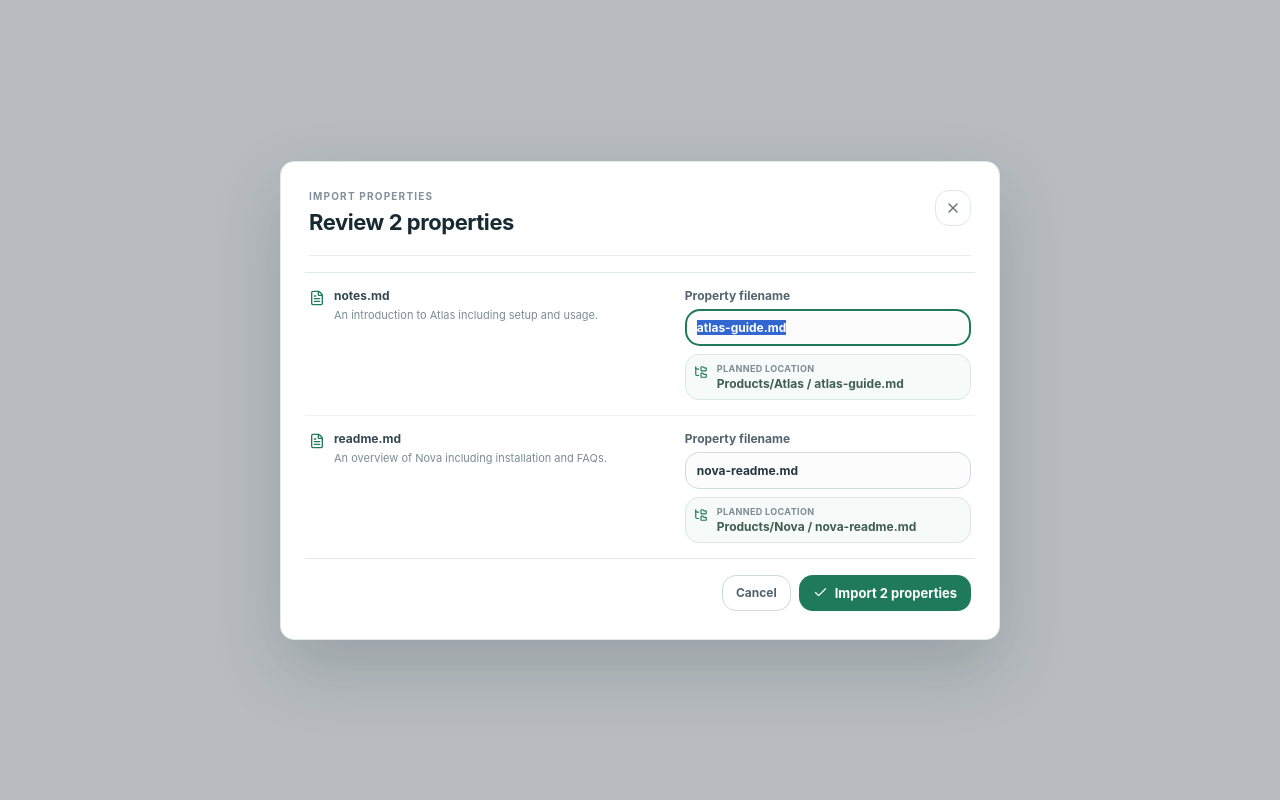
ImportPropertyDialog › blocks confirmation when a filename is empty or duplicated
Clear the field named "Property filename for notes.md" at (828, 327), box [685, 308, 971, 346]
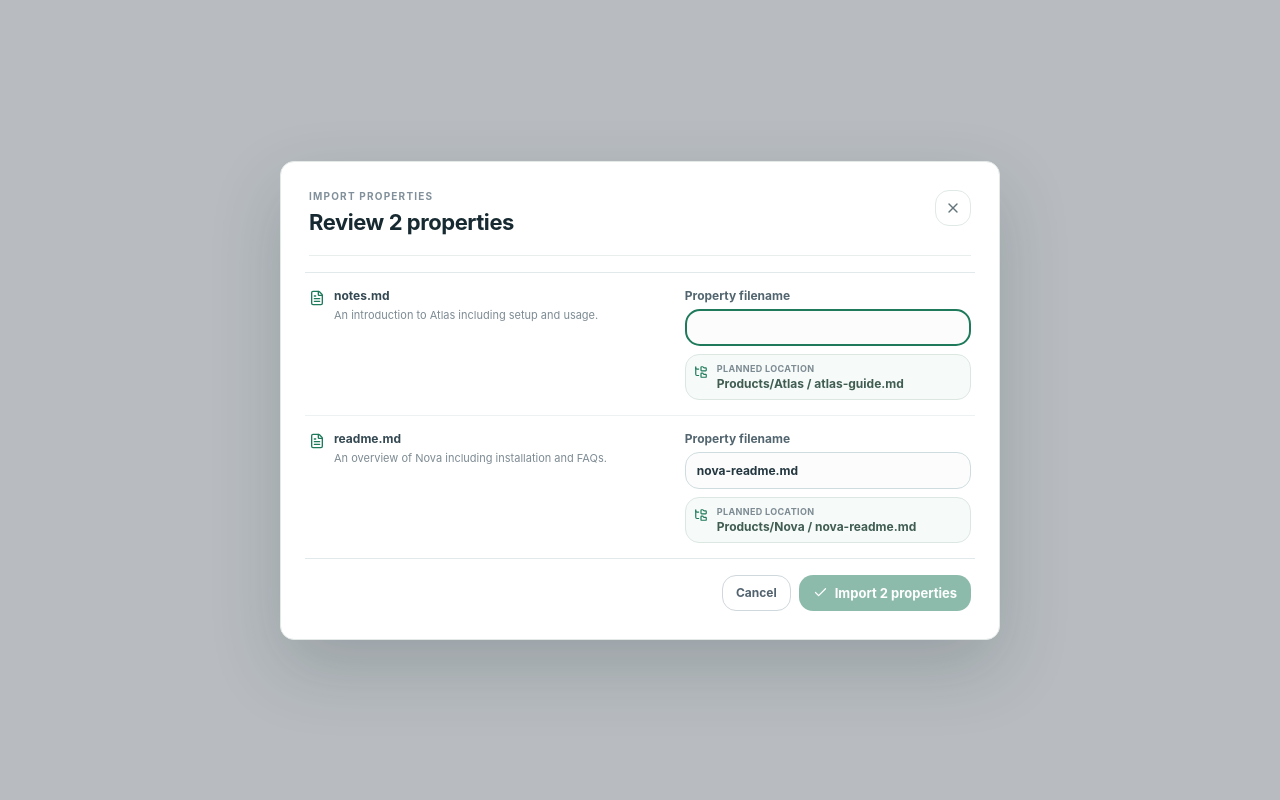
Now the button "Import 2 properties" is disabled, box [799, 574, 971, 610]
Type "same.md" into the field named "Property filename for notes.md" at (828, 327), box [685, 308, 971, 346]
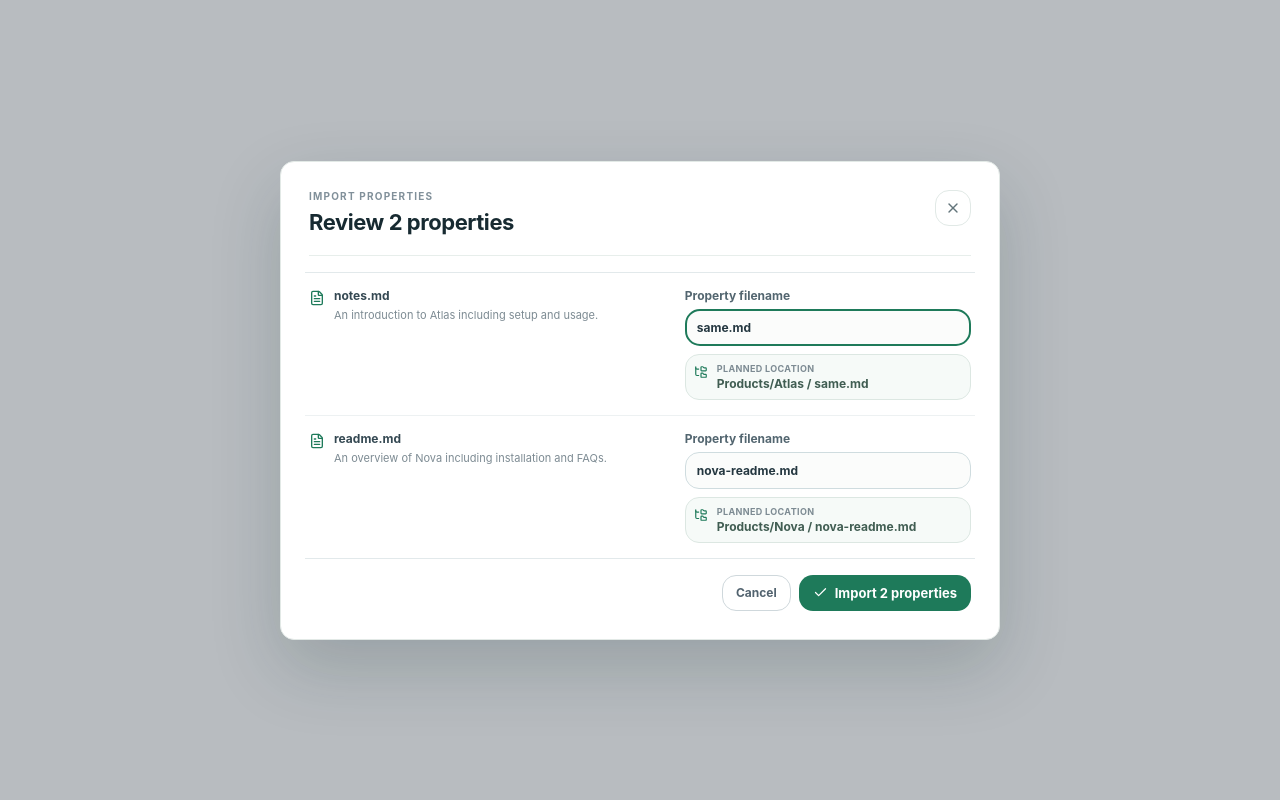
Replace the text in the field named "Property filename for readme.md" with "SAME.md" at (828, 470), box [685, 452, 971, 488]
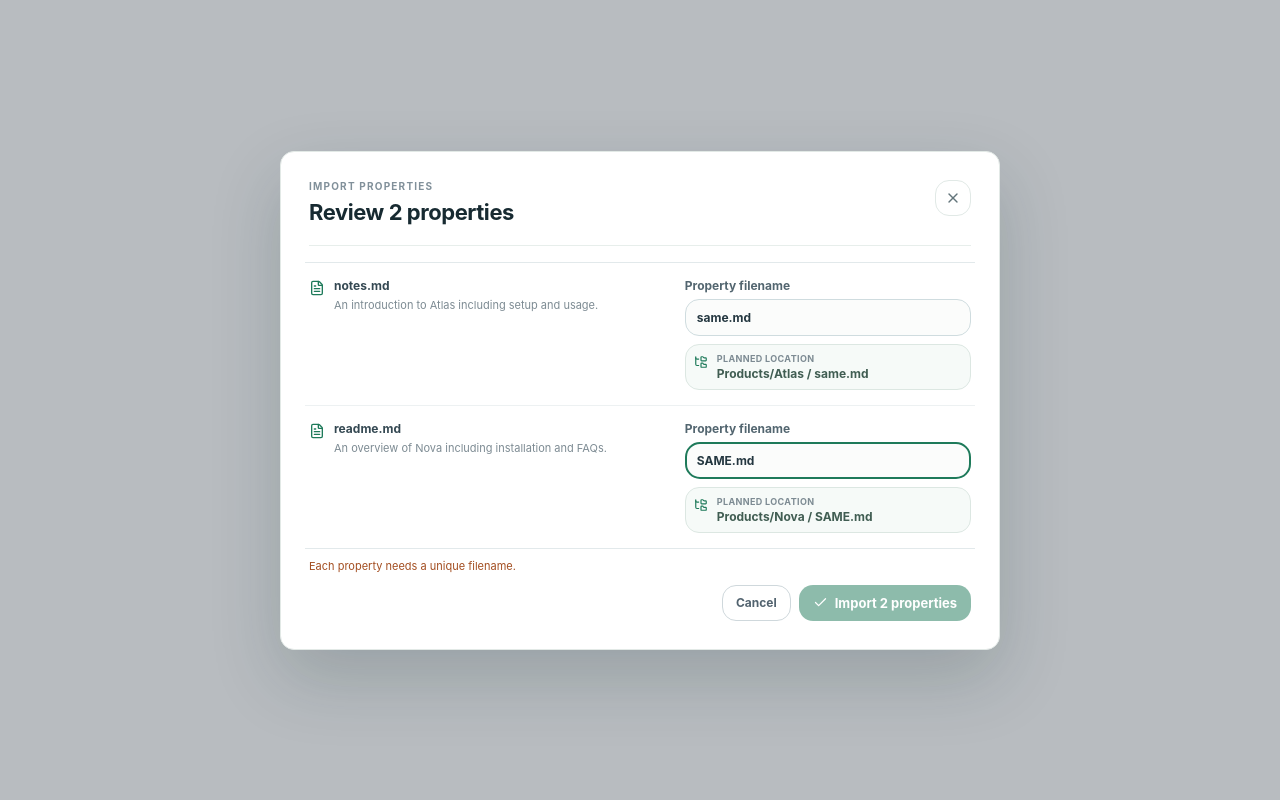
Now the button "Import 2 properties" is disabled, box [799, 584, 971, 620]
Now the text "Each property needs a unique filename." is shown, box [309, 558, 516, 572]
